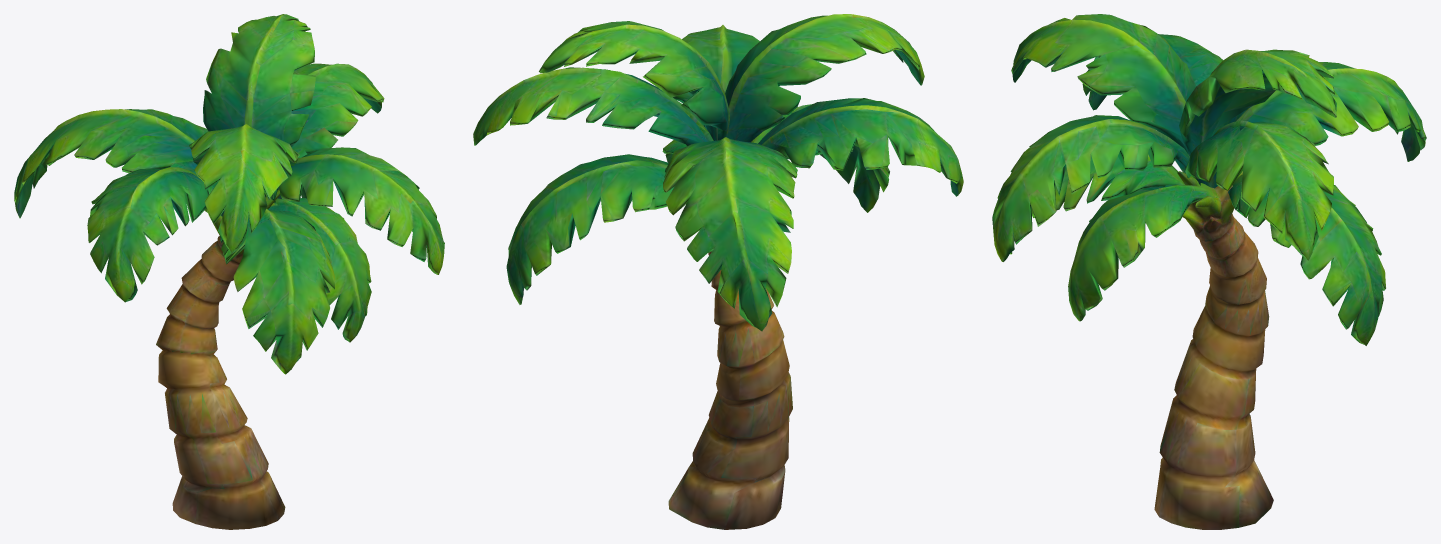
The picture shows the model from 3 angles, left to right: view 1: azimuth 30°, elevation 25°; view 2: azimuth 150°, elevation 25°; view 3: azimuth 270°, elevation 25°; orthographic projection. The views are drawn at different scales.
Parts seen in each view (by area): view 1: geometry_0; view 2: geometry_0; view 3: geometry_0.
Part boxes in pixels (x1,y1,x2,y2): geometry_0: (14,14,444,529); geometry_0: (473,14,963,529); geometry_0: (992,14,1426,529).
Bounding box in the file's own units: 0.8184 × 0.9526 × 0.769.
Materials: 1 (1 with a texture image).
